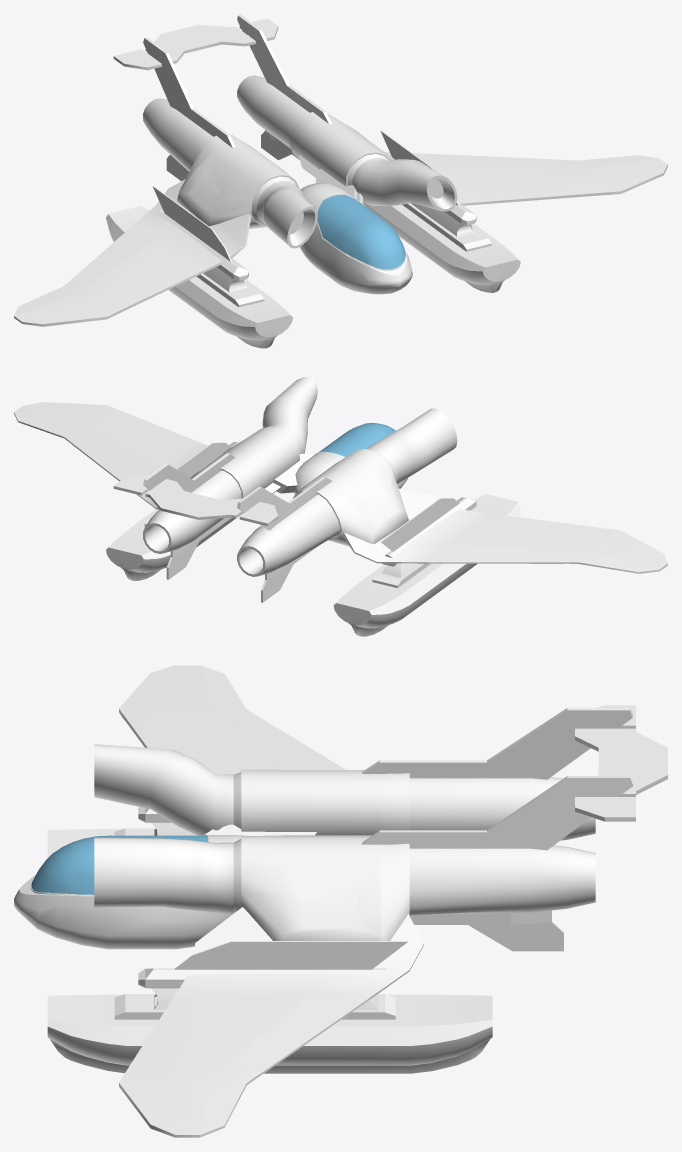
The picture shows the model from 3 angles, top to bottom: view 1: azimuth 30°, elevation 25°; view 2: azimuth 150°, elevation 25°; view 3: azimuth 270°, elevation 25°; orthographic projection. The views are drawn at different scales.
Parts seen in each view (by area): view 1: SC-1Body, Canopy, SC-1Cabin, Elevator, FlapR, FlapL, CabinBraceL, AileronR, AileronL, VtolVentDoorR; view 2: SC-1Body, Elevator, FlapR, FlapL, Canopy, SC-1Cabin, AileronR, AileronL, CabinBraceL, RudderHolders, VtolVentDoorR, RudderL (+1 smaller); view 3: SC-1Body, SC-1Cabin, Elevator, FlapL, Canopy, FlapR, RudderL, VtolVentDoorL, RudderHolders, AileronL, AileronR.
Part boxes in pixels (left/top/right/bottom): SC-1Body: left=14, top=14, right=667, bottom=348; Canopy: left=317, top=194, right=406, bottom=270; SC-1Cabin: left=299, top=183, right=412, bottom=294; Elevator: left=113, top=18, right=278, bottom=70; FlapR: left=73, top=225, right=153, bottom=285; FlapL: left=427, top=153, right=570, bottom=168; CabinBraceL: left=299, top=155, right=362, bottom=203; AileronR: left=14, top=286, right=75, bottom=315; AileronL: left=579, top=155, right=659, bottom=168; VtolVentDoorR: left=190, top=178, right=220, bottom=207; SC-1Body: left=14, top=377, right=667, bottom=636; Elevator: left=113, top=474, right=278, bottom=526; FlapR: left=427, top=545, right=570, bottom=563; FlapL: left=73, top=433, right=152, bottom=481; Canopy: left=318, top=423, right=395, bottom=457; SC-1Cabin: left=294, top=452, right=407, bottom=494; AileronR: left=578, top=552, right=659, bottom=573; AileronL: left=14, top=412, right=75, bottom=438; CabinBraceL: left=265, top=453, right=313, bottom=493; RudderHolders: left=170, top=517, right=319, bottom=580; VtolVentDoorR: left=365, top=496, right=395, bottom=524; RudderL: left=166, top=542, right=198, bottom=579; SC-1Body: left=47, top=665, right=633, bottom=1137; SC-1Cabin: left=14, top=835, right=246, bottom=949; Elevator: left=575, top=705, right=667, bottom=821; FlapL: left=224, top=996, right=369, bottom=1073; Canopy: left=30, top=835, right=209, bottom=895; FlapR: left=223, top=717, right=345, bottom=769; RudderL: left=468, top=921, right=563, bottom=951; VtolVentDoorL: left=304, top=898, right=357, bottom=928; RudderHolders: left=409, top=910, right=551, bottom=924; AileronL: left=200, top=1081, right=246, bottom=1137; AileronR: left=200, top=665, right=246, bottom=709.
Bounding box in the file's own units: 25.01 × 6.13 × 14.72.
